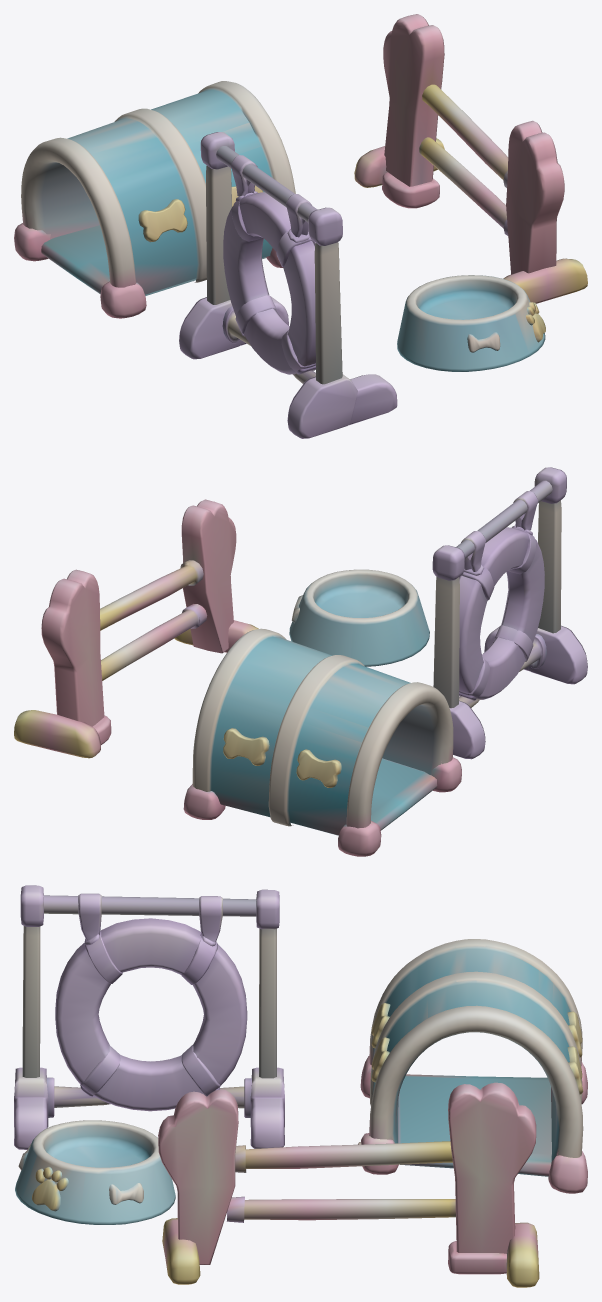
The model's file is dog_playground.glb.
3 views of the same model, one above another, from view 1: azimuth 30°, elevation 25°; view 2: azimuth 150°, elevation 25°; view 3: azimuth 270°, elevation 25° (orthographic). The views are drawn at different scales.
Parts seen in each view (by area): view 1: SM_dog_playground; view 2: SM_dog_playground; view 3: SM_dog_playground.
Boxes of the visible parts, left/top/right/bottom form: SM_dog_playground: left=14, top=14, right=587, bottom=438; SM_dog_playground: left=14, top=467, right=587, bottom=856; SM_dog_playground: left=14, top=885, right=587, bottom=1287.
Size of the model in its own units: 1.95 by 1 by 2.2.
